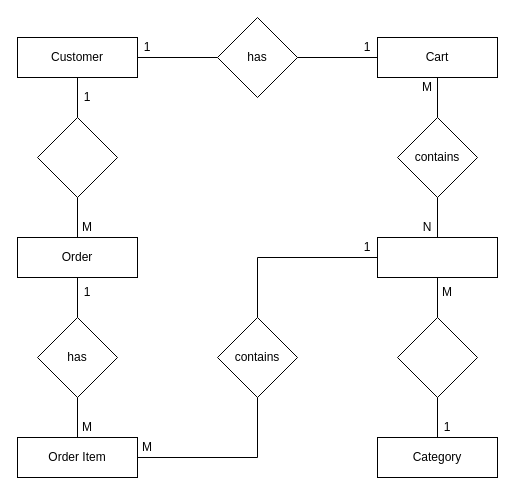
Image size: 515x495. Some labels were removed from this diagram. The shapes that lost their labels are listed below. From the top down, each one's centre as x and y in pixels, then its label:
point 77,157: places
point 437,257: Product
point 437,357: belongs to
